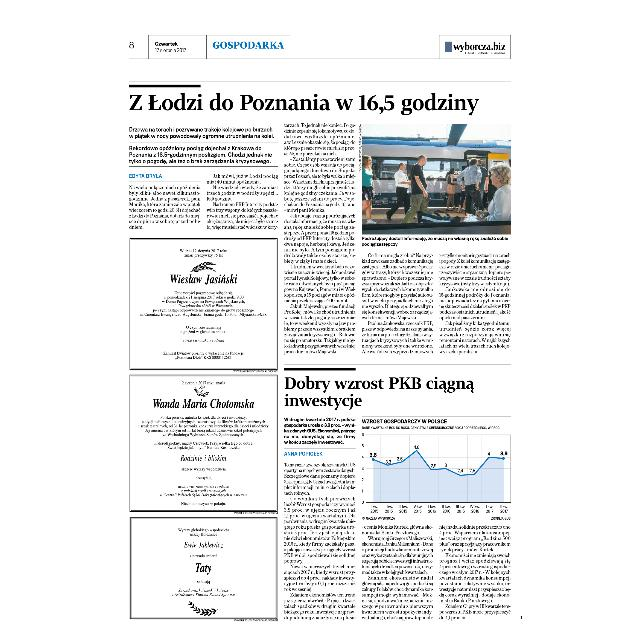article: (124, 83, 516, 360), (280, 366, 520, 624)
